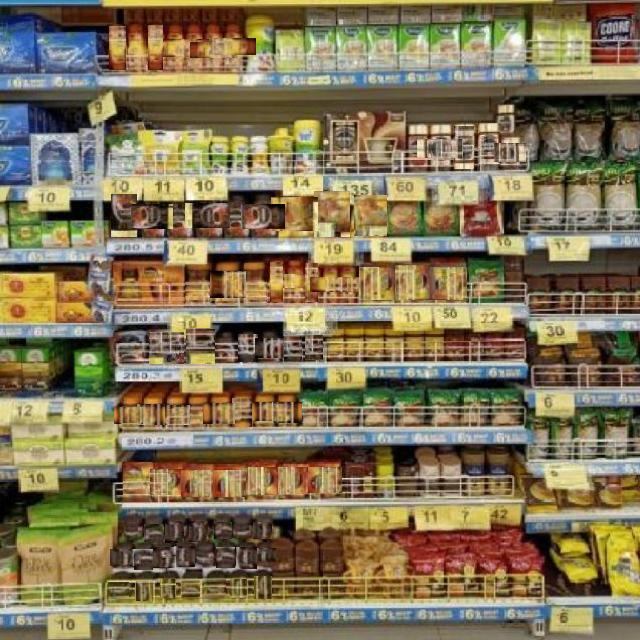Coffee: (313, 190, 350, 237), (271, 197, 318, 231), (353, 194, 387, 236), (394, 266, 432, 300), (430, 267, 467, 300), (111, 332, 146, 366), (358, 268, 395, 300), (167, 193, 193, 238), (149, 331, 184, 364), (186, 202, 230, 228), (111, 193, 137, 237), (185, 327, 215, 364), (241, 204, 285, 229), (130, 204, 173, 229), (207, 271, 246, 298), (124, 463, 152, 500), (224, 194, 248, 237), (186, 264, 210, 305), (243, 467, 278, 495), (306, 466, 342, 493), (479, 124, 500, 169), (244, 263, 267, 304), (149, 469, 185, 495), (182, 469, 215, 497), (274, 467, 308, 494), (214, 469, 246, 497), (454, 126, 474, 169), (418, 139, 463, 158), (171, 39, 218, 57), (153, 39, 198, 57), (190, 41, 237, 58), (109, 25, 126, 70), (209, 39, 256, 55), (129, 25, 145, 71), (148, 24, 163, 70), (204, 402, 235, 424), (272, 402, 302, 423), (231, 397, 252, 427), (187, 398, 207, 429), (237, 333, 258, 362), (161, 404, 190, 425), (273, 274, 315, 288), (256, 337, 284, 358), (137, 404, 165, 425), (327, 277, 366, 292), (216, 333, 236, 362), (494, 144, 526, 162), (250, 402, 280, 421), (310, 277, 347, 292), (114, 406, 143, 424), (270, 262, 283, 302), (498, 104, 514, 136), (305, 263, 318, 302), (152, 547, 176, 568), (284, 335, 302, 362), (305, 335, 323, 360), (236, 548, 257, 569), (215, 546, 235, 568), (111, 548, 135, 566), (174, 547, 195, 567), (134, 548, 153, 570), (166, 520, 184, 543), (254, 576, 272, 599), (197, 546, 215, 568), (190, 521, 208, 542), (135, 580, 153, 601), (204, 580, 226, 597), (144, 523, 163, 542), (256, 548, 276, 566), (213, 521, 232, 539), (180, 581, 200, 598), (108, 582, 129, 598), (122, 522, 140, 540), (234, 523, 252, 541), (254, 522, 272, 539), (230, 580, 247, 598), (159, 580, 176, 598)
